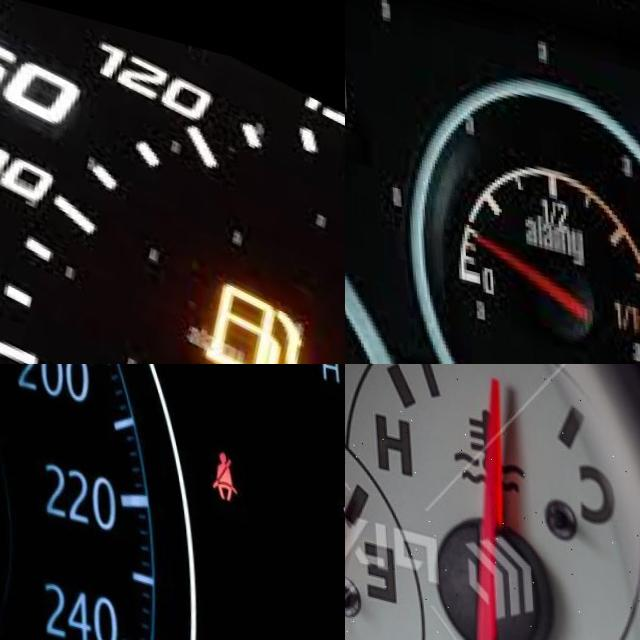Seat Belt: (207, 436, 235, 485)
